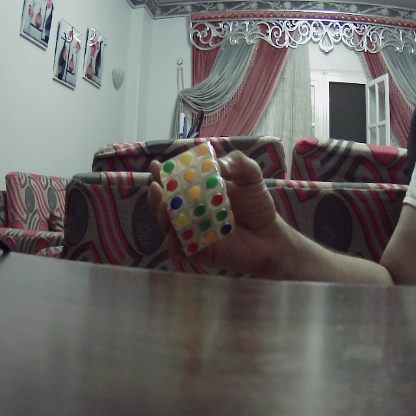Rubix Cube: (162, 145, 236, 255)
